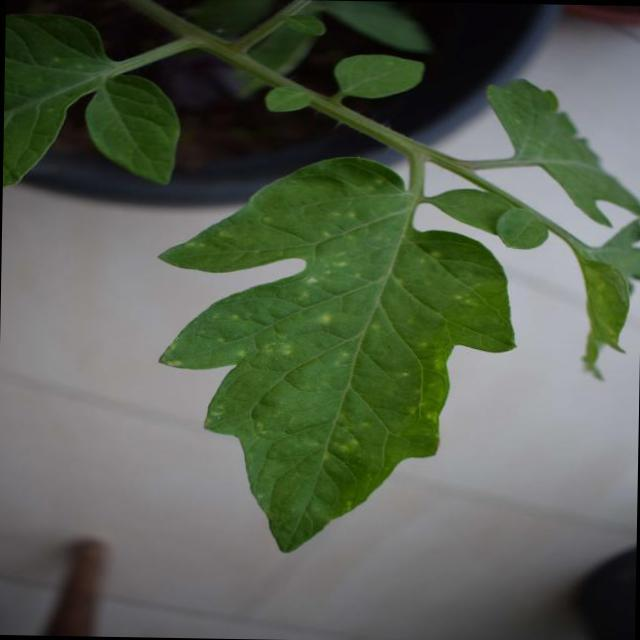Leaf Mold: (142, 156, 524, 574)
